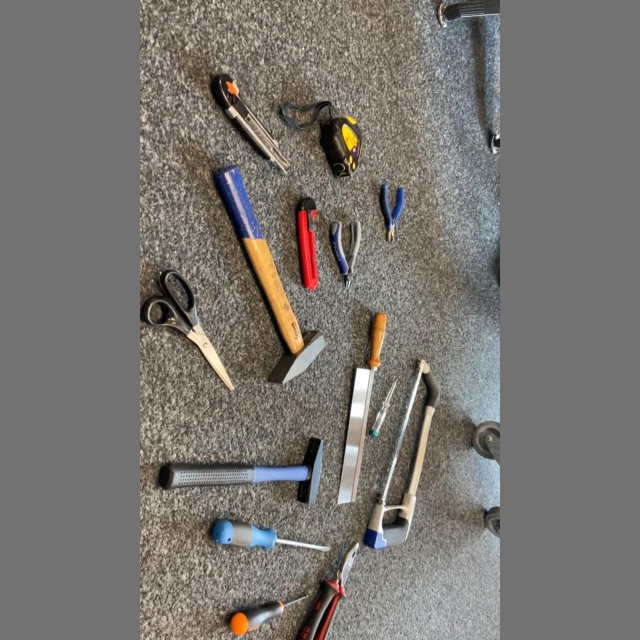scissor: (140, 266, 241, 401)
screwdriver: (205, 516, 334, 555), (223, 590, 313, 638), (368, 373, 402, 441)
